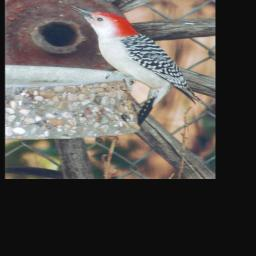Woodpecker: (66, 6, 214, 129)
